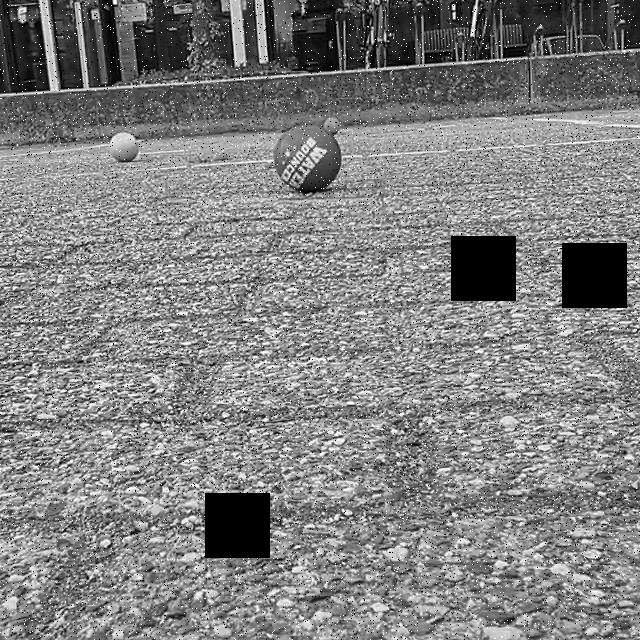ball: (108, 130, 142, 164), (322, 114, 342, 136)
